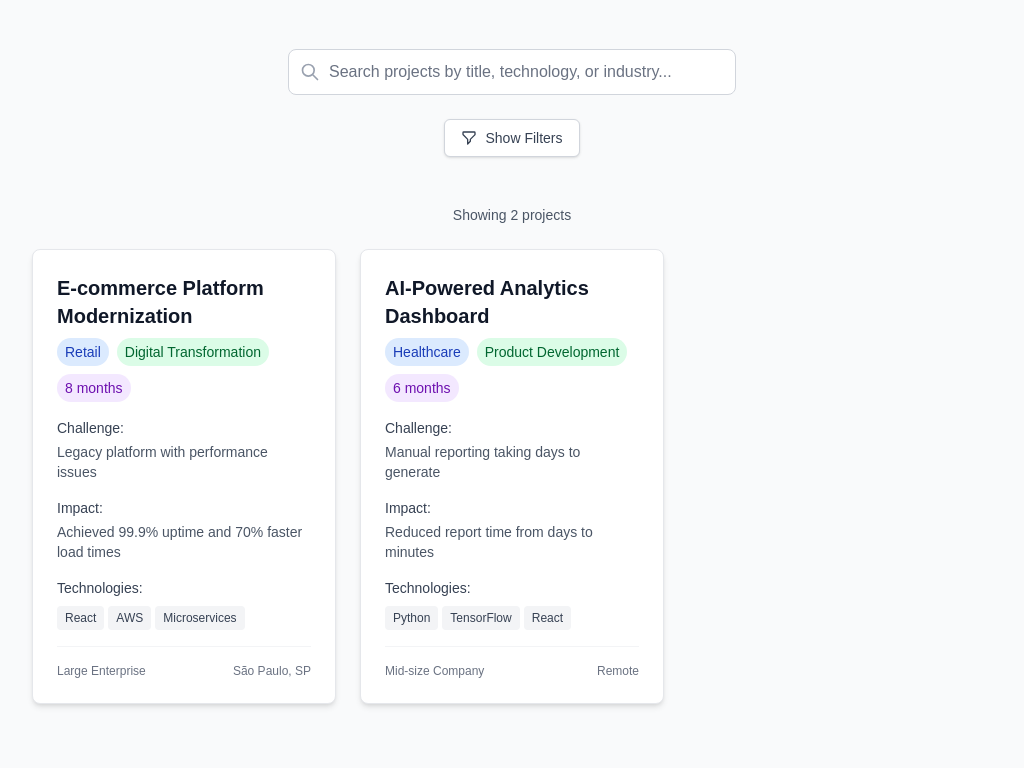
Test: Projects Animations › shows smooth modal transitions
(page scrolled)
Step 1. Click the button "E-commerce Platform Modernization" → coordinates (160, 288), box 32,249 -> 336,704
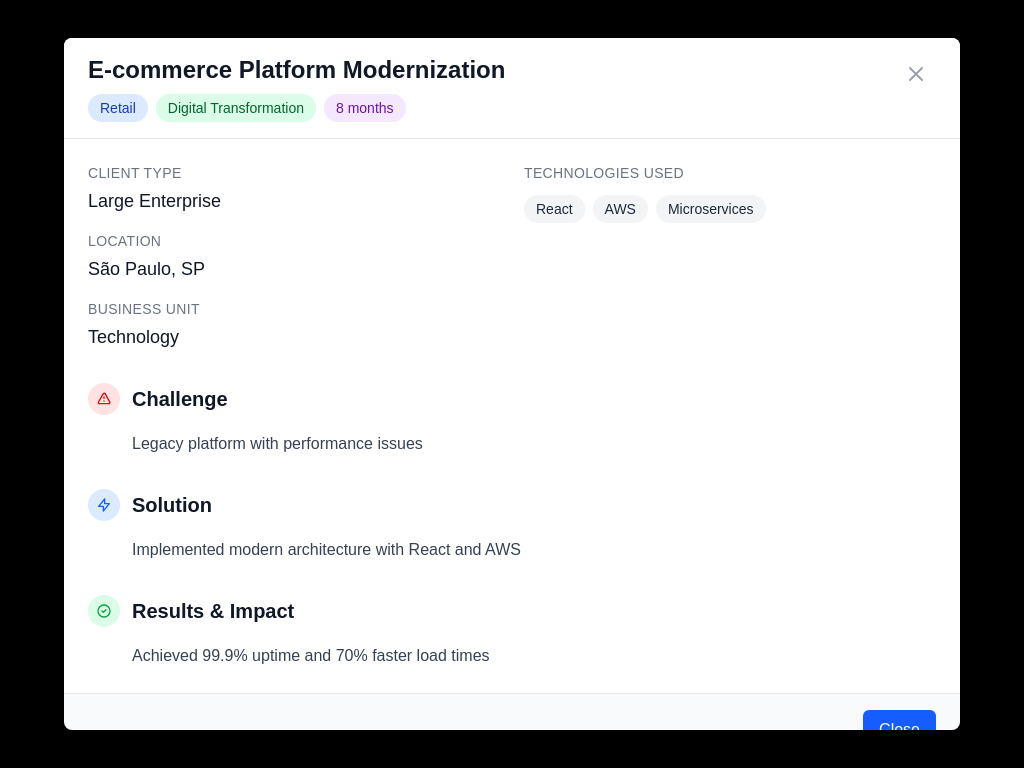
Now the dialog is shown
Now the element with class "shadow-xl" is shown
